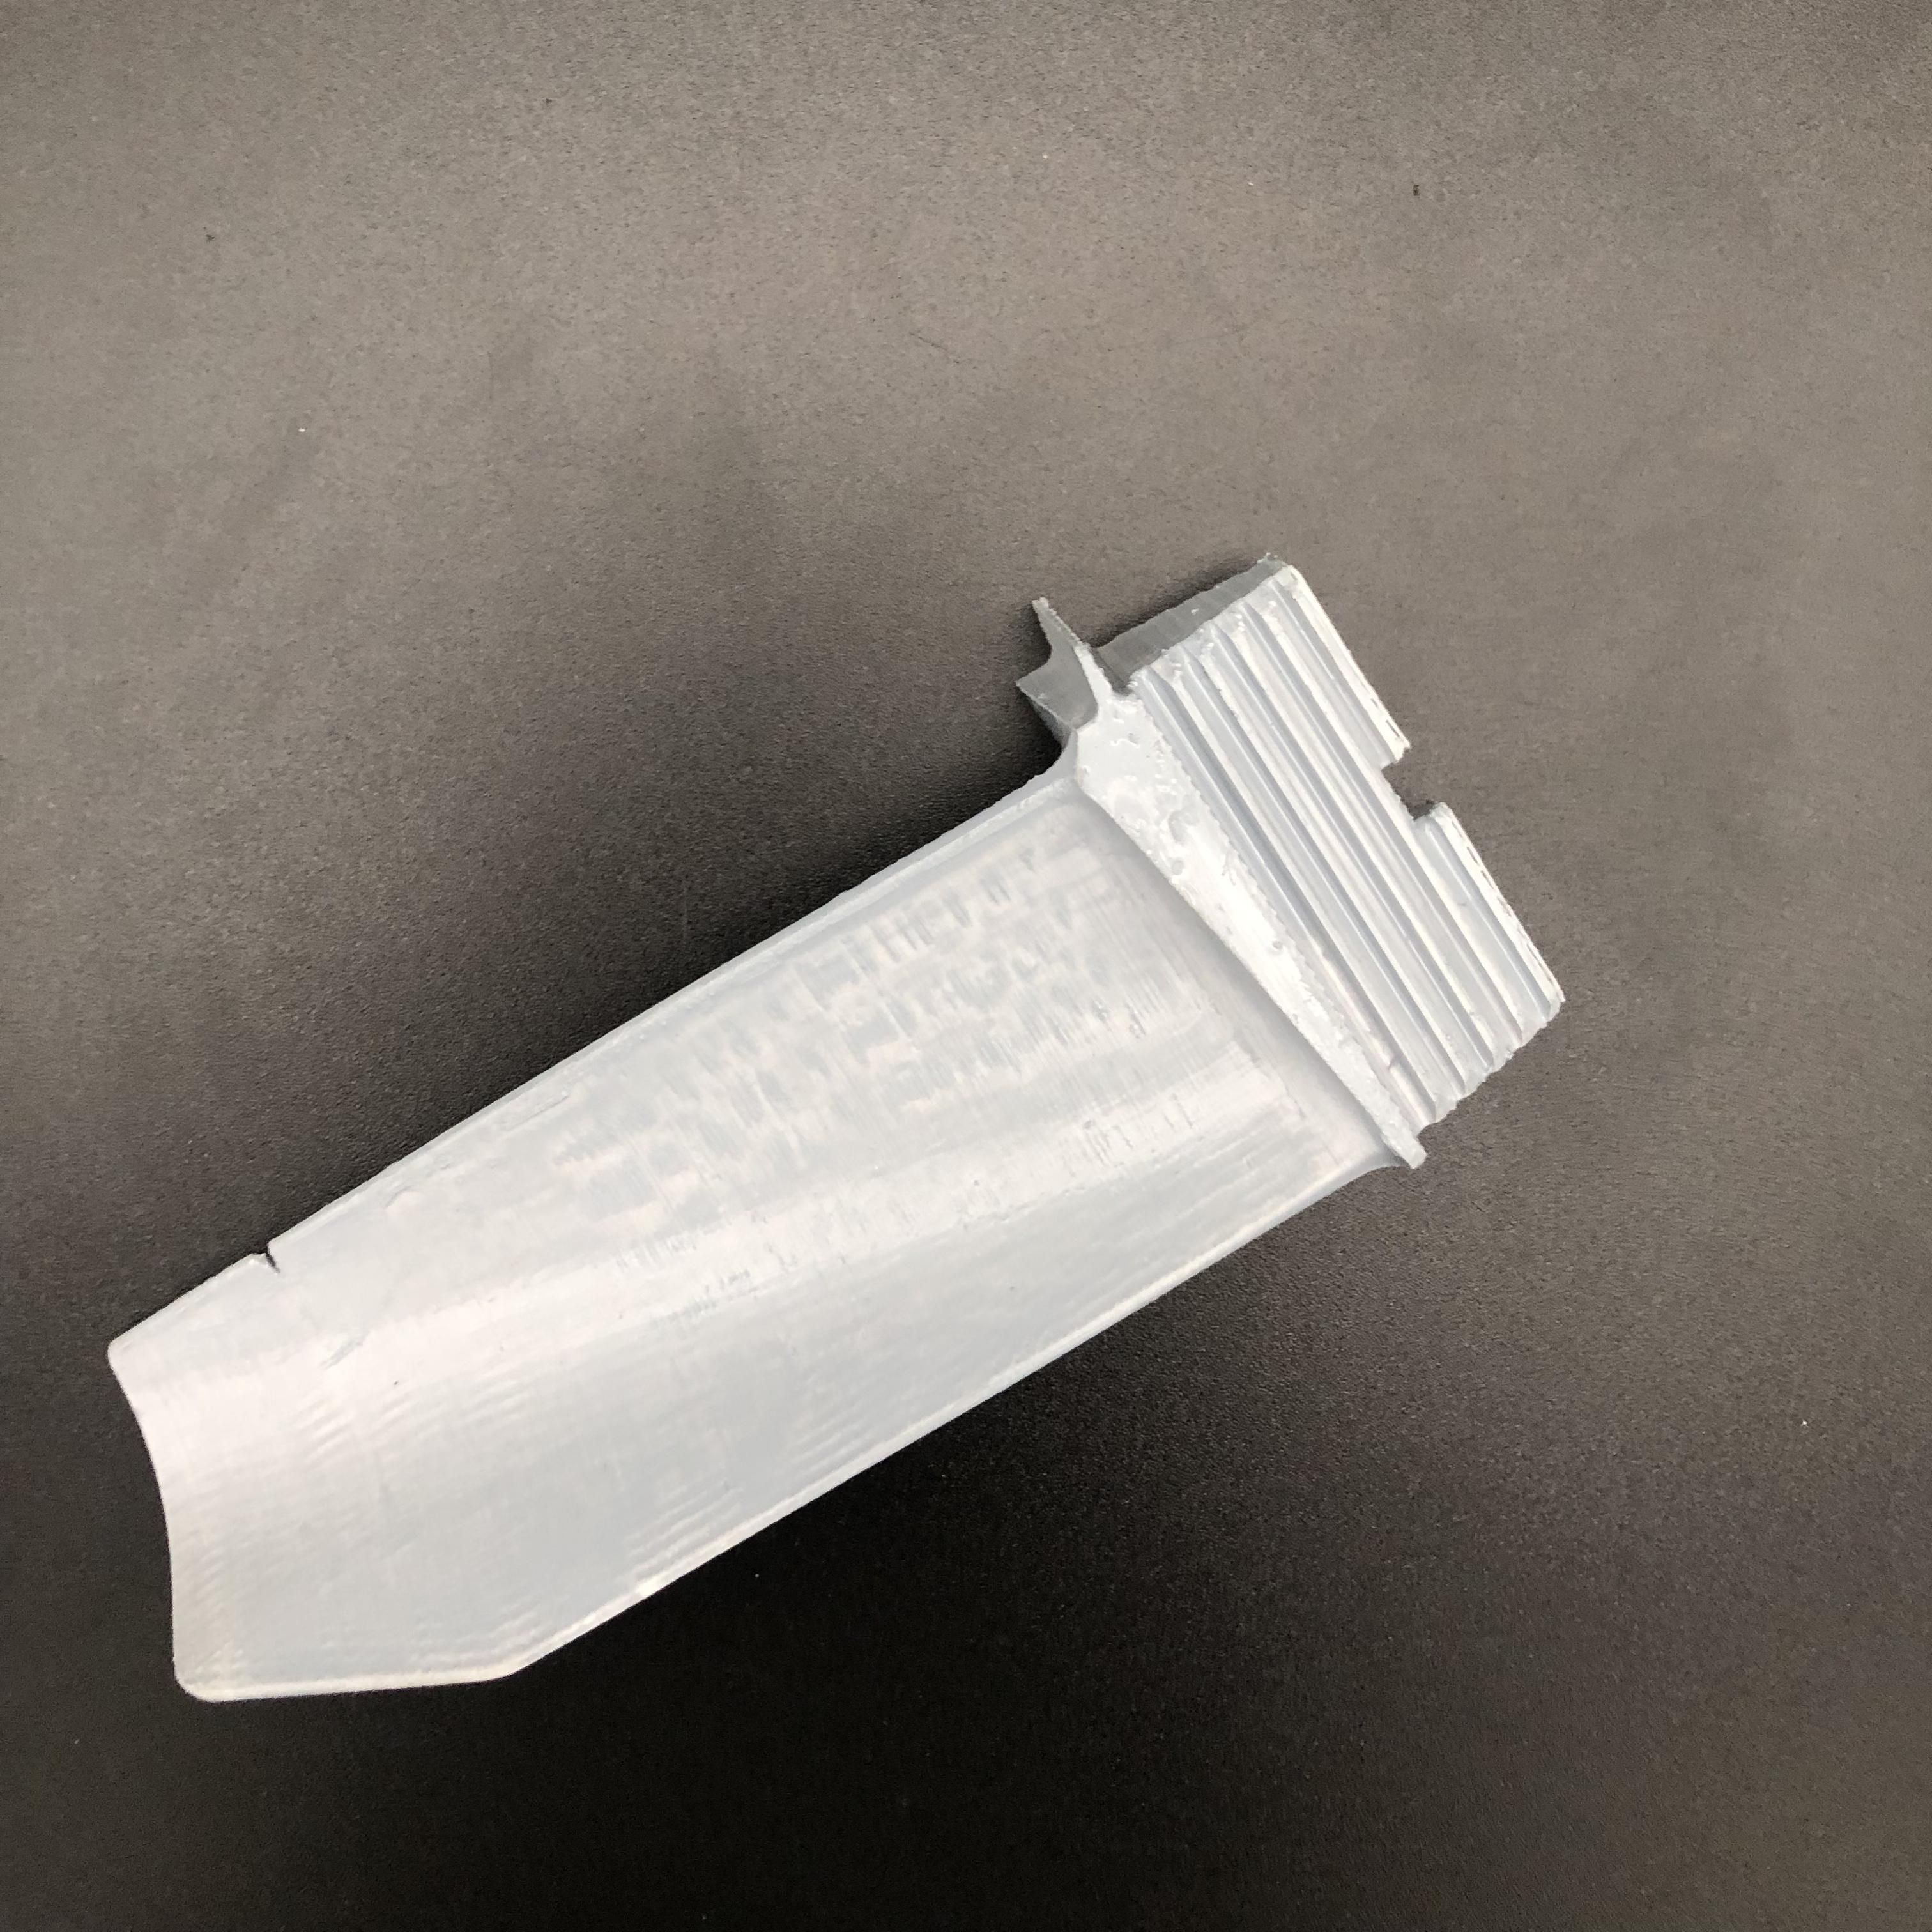groove: (244, 1237, 292, 1281)
